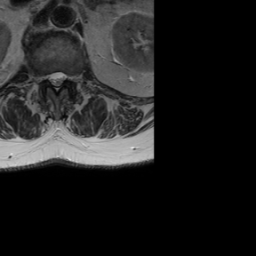CCS_normal: (54, 66, 60, 95)
LFS_normal: (67, 69, 74, 86)
LLS_normal: (60, 67, 66, 86)
RFS_stenosis: (41, 67, 47, 87)
RLS_normal: (47, 67, 54, 88)
